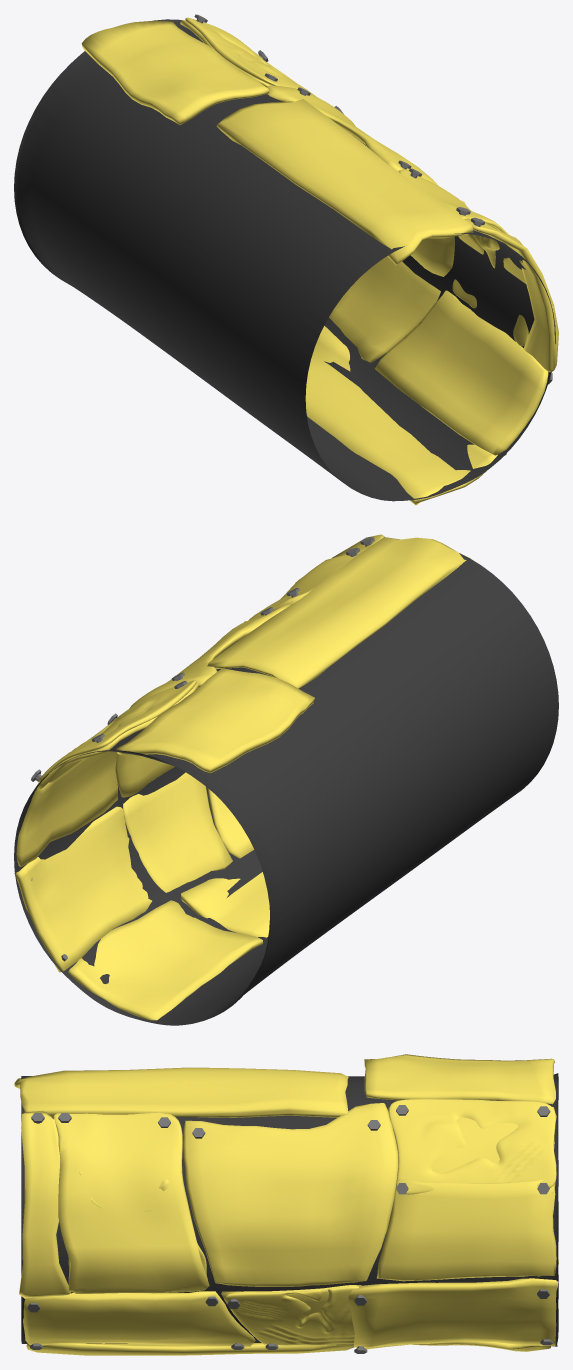
File: MetalPanels.fbx
3 views of the same model, one above another, from view 1: azimuth 30°, elevation 25°; view 2: azimuth 150°, elevation 25°; view 3: azimuth 270°, elevation 25° (orthographic). The views are drawn at different scales.
Parts seen in each view (by area): view 1: Cylinder.025, Plane.011, Plane.006, Plane.012, Plane.009, FixedPart3, Plane.002, Plane.005, BrokenPanel2, BrokenPanel1, FixedPart1; view 2: Cylinder.025, Plane.011, Plane.008, Plane.010, Plane.012, FixedPart3, Plane.004, Plane.009, Plane.002, BrokenPanel2, Plane.006, FixedPart1 (+1 smaller); view 3: Plane.002, FixedPart1, Plane.004, Plane.011, Plane.008, BrokenPanel2, Plane.006, Plane.012, Cylinder.025, Plane.005, BrokenPanel3, Plane.009 (+4 smaller).
Boxes of the visible parts, box(x1,y1,x2,y2) form: Cylinder.025: box(14, 19, 555, 501); Plane.011: box(216, 99, 473, 265); Plane.006: box(375, 290, 548, 455); Plane.012: box(81, 20, 269, 125); Plane.009: box(305, 326, 497, 505); FixedPart3: box(329, 256, 440, 362); Plane.002: box(267, 85, 454, 276); Plane.005: box(465, 218, 558, 372); BrokenPanel2: box(185, 17, 316, 96); BrokenPanel1: box(397, 171, 528, 346); FixedPart1: box(399, 169, 509, 235); Cylinder.025: box(14, 553, 558, 1025); Plane.011: box(207, 537, 470, 688); Plane.008: box(14, 806, 151, 972); Plane.010: box(68, 900, 263, 1020); Plane.012: box(116, 668, 314, 773); FixedPart3: box(123, 772, 232, 892); Plane.004: box(16, 733, 117, 866); Plane.009: box(181, 872, 269, 937); Plane.002: box(115, 603, 290, 797); BrokenPanel2: box(38, 680, 196, 782); Plane.006: box(207, 788, 254, 858); FixedPart1: box(248, 550, 364, 620); Plane.002: box(183, 1103, 398, 1286); FixedPart1: box(53, 1112, 209, 1294); Plane.004: box(377, 1179, 558, 1281); Plane.011: box(14, 1067, 348, 1117); Plane.008: box(348, 1278, 558, 1348); BrokenPanel2: box(389, 1099, 556, 1194); Plane.006: box(23, 1291, 255, 1346); Plane.012: box(364, 1054, 555, 1104); Cylinder.025: box(21, 1073, 558, 1346); Plane.005: box(19, 1111, 71, 1298); BrokenPanel3: box(224, 1286, 358, 1345); Plane.009: box(26, 1343, 354, 1355).
Bounding box in the file's own units: 1112 × 1113 × 2106.
